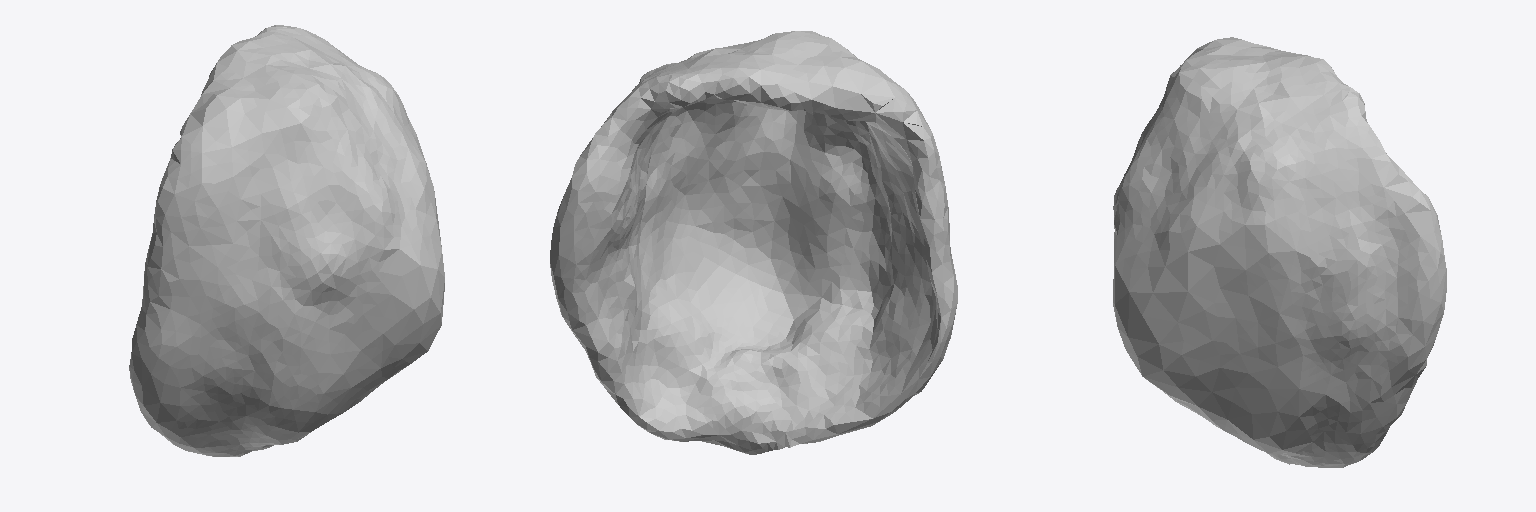
File: Half Circle.obj
The picture shows the model from 3 angles: view 1: azimuth 30°, elevation 25°; view 2: azimuth 150°, elevation 25°; view 3: azimuth 270°, elevation 25°; orthographic projection.
Visible parts, largest first — view 1: Icosphere_Icosphere.007; view 2: Icosphere_Icosphere.007; view 3: Icosphere_Icosphere.007.
Part boxes in pixels (bbox=[...]): Icosphere_Icosphere.007: bbox=[129, 25, 444, 456]; Icosphere_Icosphere.007: bbox=[550, 31, 957, 454]; Icosphere_Icosphere.007: bbox=[1113, 37, 1446, 467].
Bounding box in the file's own units: 52.08 × 64.24 × 49.06.